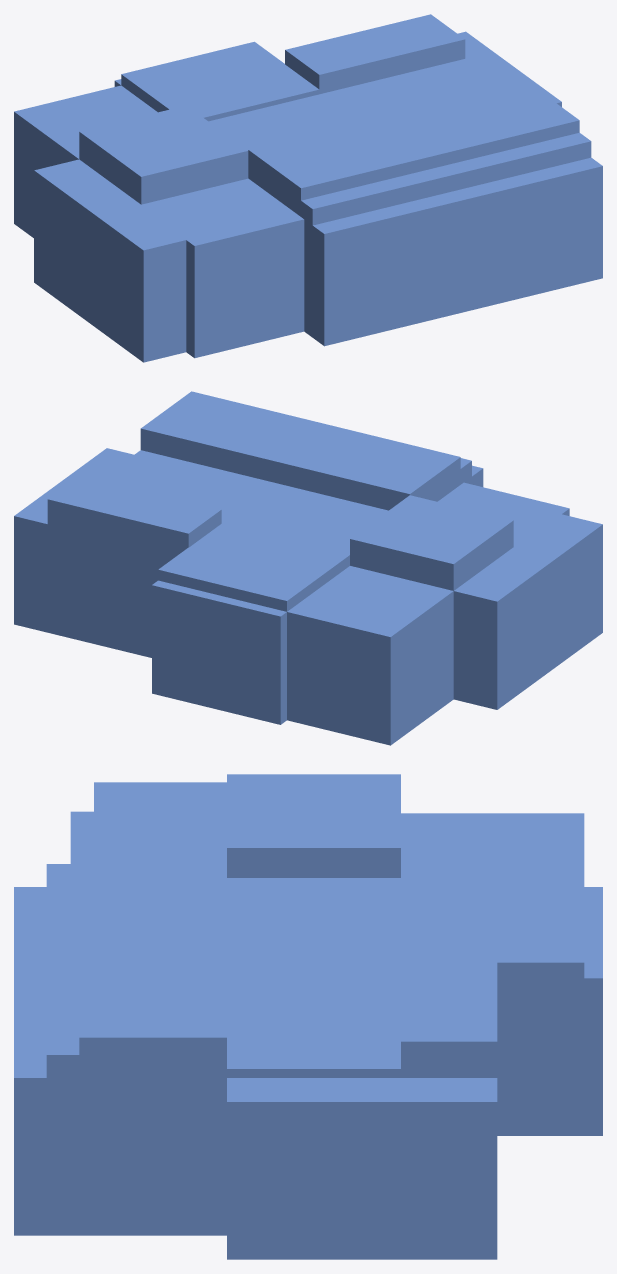
File: bulut3.fbx
3 renders of one model, top to bottom at view 1: azimuth 30°, elevation 25°; view 2: azimuth 150°, elevation 25°; view 3: azimuth 270°, elevation 25°, orthographic. The views are drawn at different scales.
Visible parts, largest first — view 1: Cube; view 2: Cube; view 3: Cube.
Boxes of the visible parts, box(x1,y1,x2,y2) form: Cube: box(14, 14, 602, 362); Cube: box(14, 391, 602, 745); Cube: box(14, 774, 602, 1259).
Size of the model in its own units: 869 by 251 by 677.
